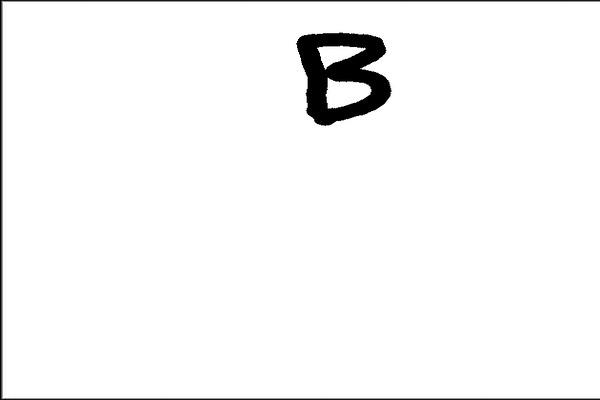B: (289, 23, 399, 132)
